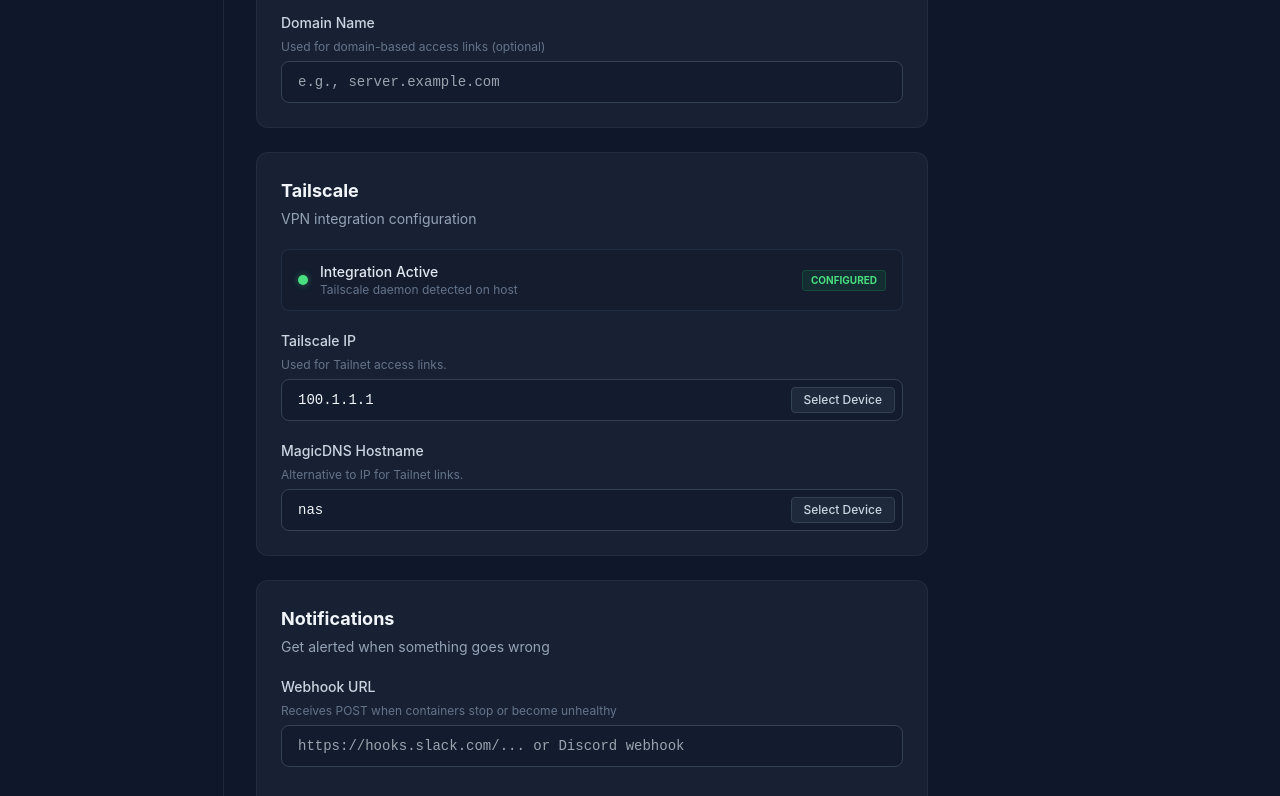
Test: SettingsPage › opens Select Device modal when clicking Select Device for Tailscale
(page scrolled)
Step 1. Click the 1st button "Select Device" → x=843, y=400, box [790,387,895,413]
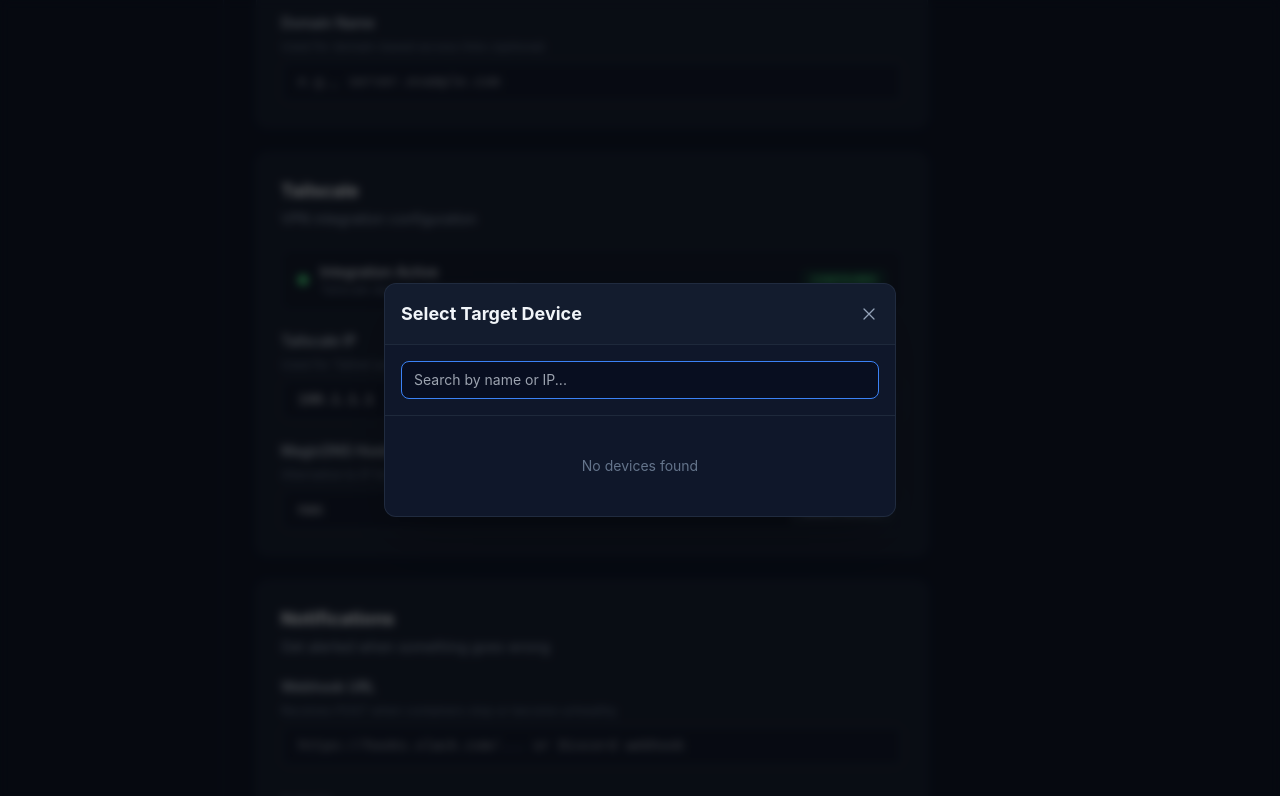
Check: the heading "Select Target Device" is shown, box [401,300,582,328]
